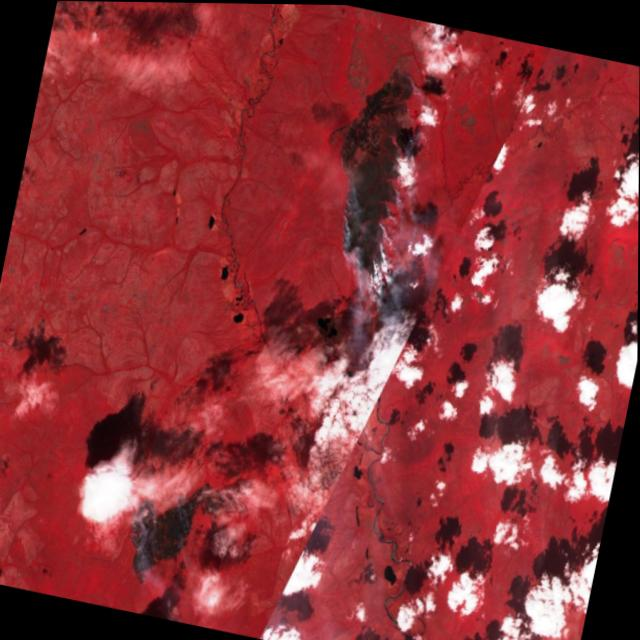fire: (310, 44, 433, 305), (95, 464, 222, 588)
